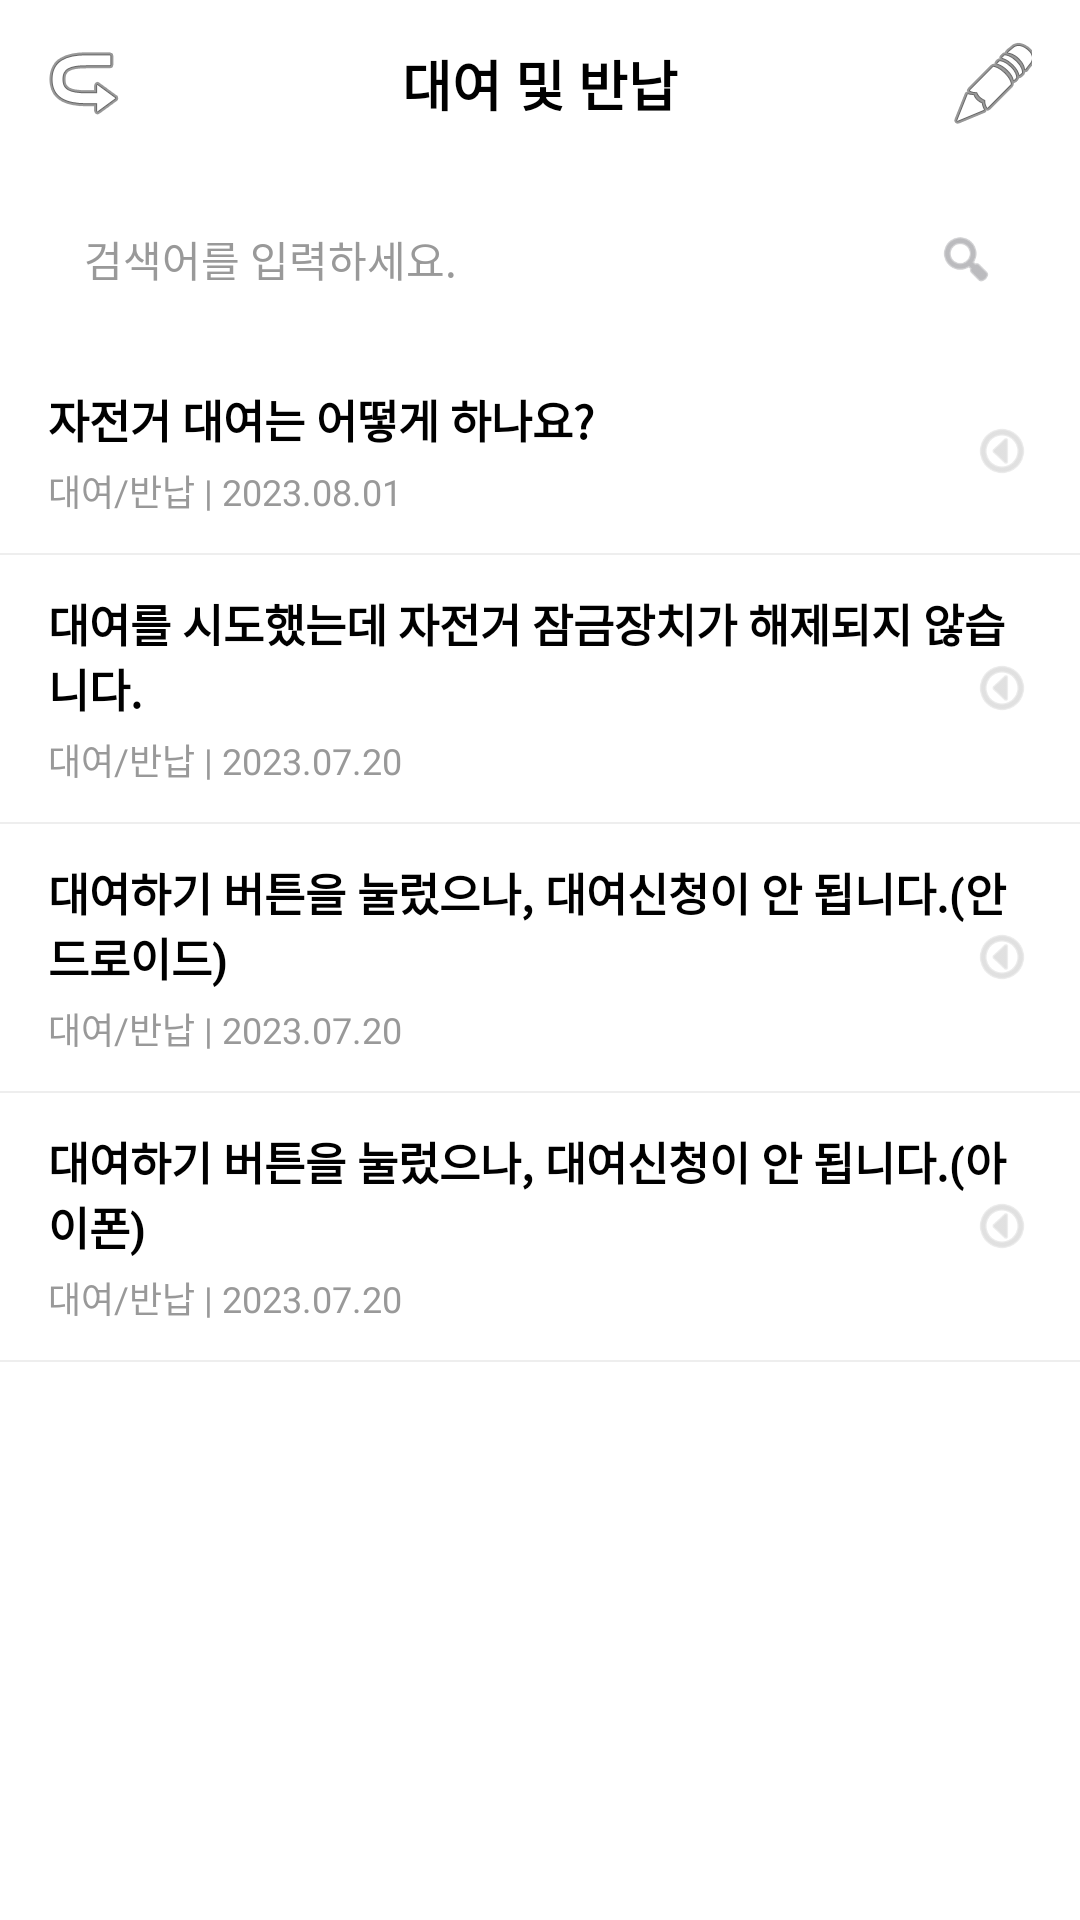

Named icons in this screenshot (1080w x 1920h) and their centers, (x=x, y=y):
search: (x=966, y=259)
수정: (x=993, y=83)
